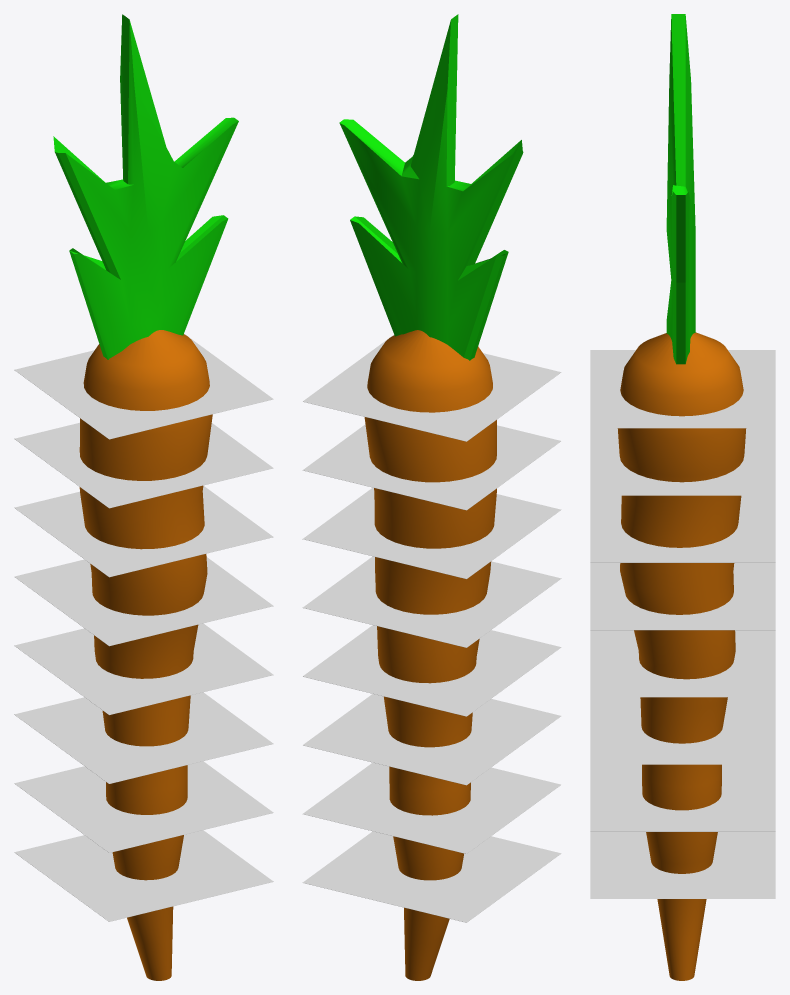
Rendered from Karotte 1.fbx.
3 renders of one model, left to right at view 1: azimuth 30°, elevation 25°; view 2: azimuth 150°, elevation 25°; view 3: azimuth 270°, elevation 25°, orthographic. The views are drawn at different scales.
Visible parts, largest first — view 1: Schale, Green, Schnitt.007, Schnitt.006, Schnitt.005, Schnitt.004, Schnitt.003, Schnitt, Schnitt.002, Schnitt.001; view 2: Schale, Green, Schnitt.007, Schnitt.006, Schnitt.005, Schnitt.004, Schnitt.003, Schnitt.002, Schnitt, Schnitt.001; view 3: Schale, Schnitt.007, Schnitt.006, Schnitt.005, Green, Schnitt.004, Schnitt, Schnitt.003, Schnitt.002, Schnitt.001.
Boxes of the visible parts, <box> form: Schale: <box>79,330,212,980</box>; Green: <box>53,14,238,359</box>; Schnitt.007: <box>14,830,273,921</box>; Schnitt.006: <box>14,761,273,852</box>; Schnitt.005: <box>14,692,273,783</box>; Schnitt.004: <box>14,623,273,715</box>; Schnitt.003: <box>14,557,273,646</box>; Schnitt: <box>14,333,273,439</box>; Schnitt.002: <box>14,485,273,577</box>; Schnitt.001: <box>14,422,273,508</box>; Schale: <box>364,330,496,980</box>; Green: <box>339,14,523,360</box>; Schnitt.007: <box>302,831,561,922</box>; Schnitt.006: <box>303,762,560,853</box>; Schnitt.005: <box>303,694,560,785</box>; Schnitt.004: <box>303,625,561,716</box>; Schnitt.003: <box>302,556,561,647</box>; Schnitt.002: <box>302,487,561,579</box>; Schnitt: <box>303,334,561,441</box>; Schnitt.001: <box>302,424,560,510</box>; Schale: <box>617,332,746,980</box>; Schnitt.007: <box>590,832,775,898</box>; Schnitt.006: <box>590,764,775,831</box>; Schnitt.005: <box>590,697,775,764</box>; Green: <box>666,14,695,364</box>; Schnitt.004: <box>590,630,775,697</box>; Schnitt: <box>590,350,775,428</box>; Schnitt.003: <box>590,563,775,630</box>; Schnitt.002: <box>590,495,775,562</box>; Schnitt.001: <box>590,428,775,495</box>.
Size of the model in its own units: 205 by 1045 by 186.
